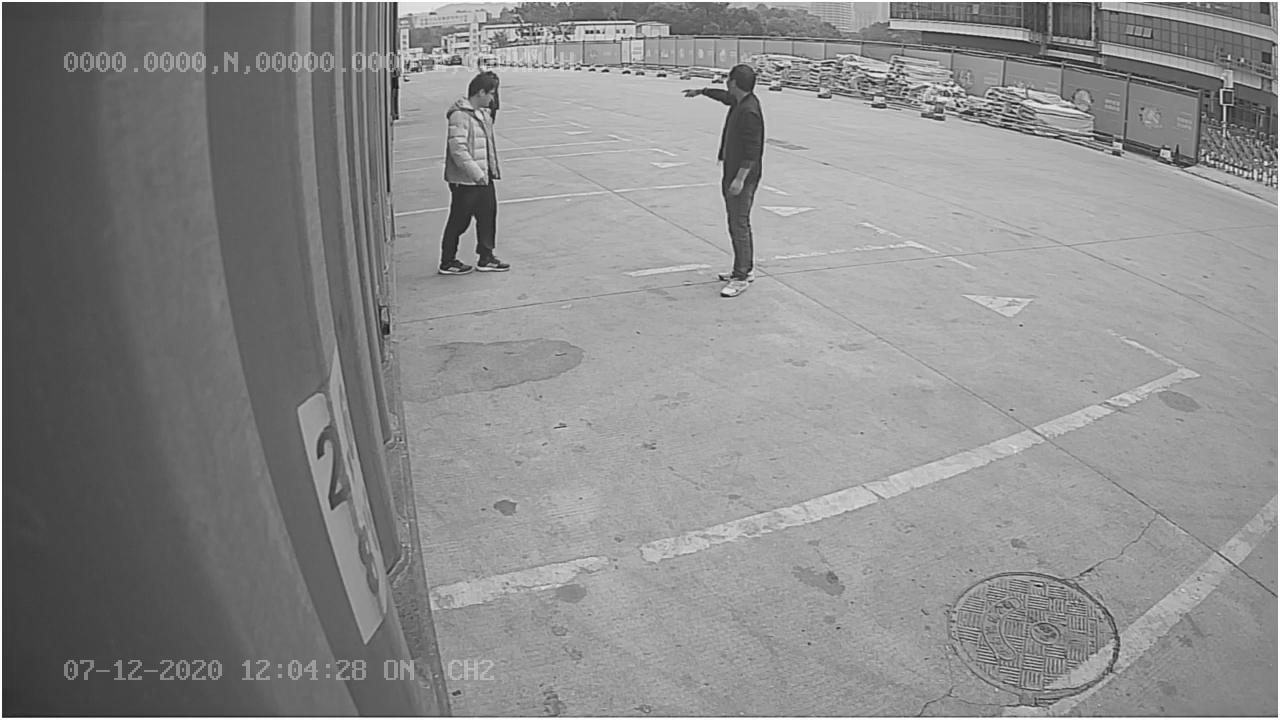person: (677, 51, 770, 302)
